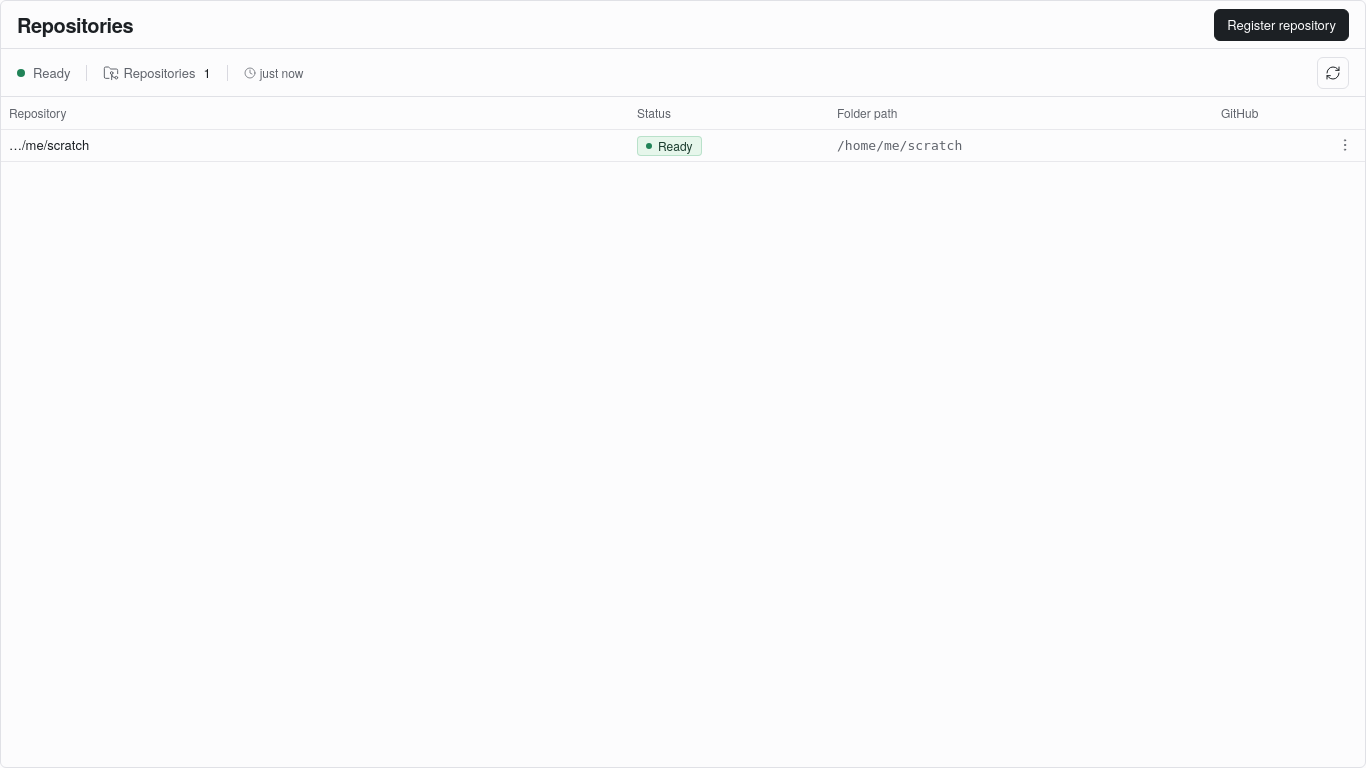
Test case: Repositories — GitHub column › leaves a repository without a GitHub page empty, with no menu item
Expected: the 4th cell is empty, [1213,129,1325,161]
Step 1. Click the button named "Actions for …/me/scratch" → (1345, 144), box [1333,132,1357,156]
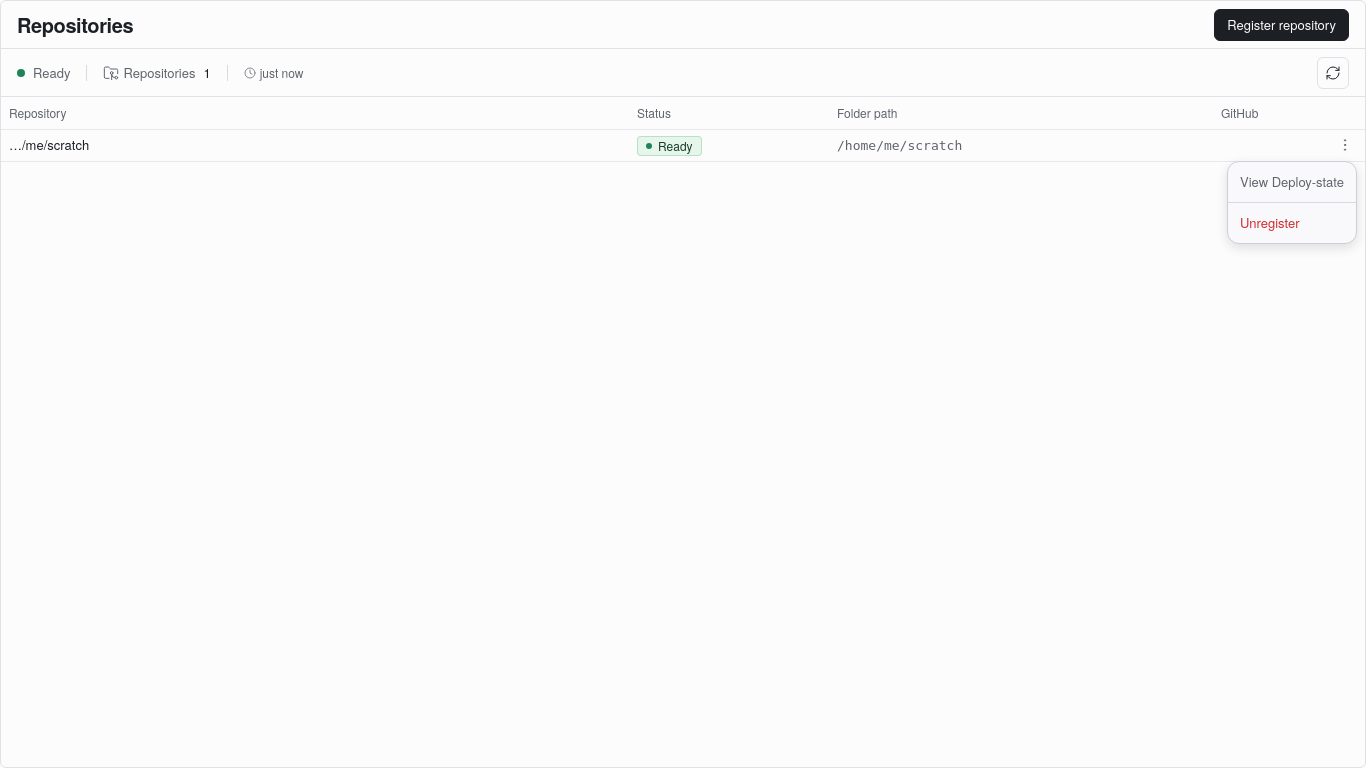
Expected: the menu items read "View Deploy-state", "Unregister", in this order, [1240,172,1344,191]; [1240,213,1300,232]
